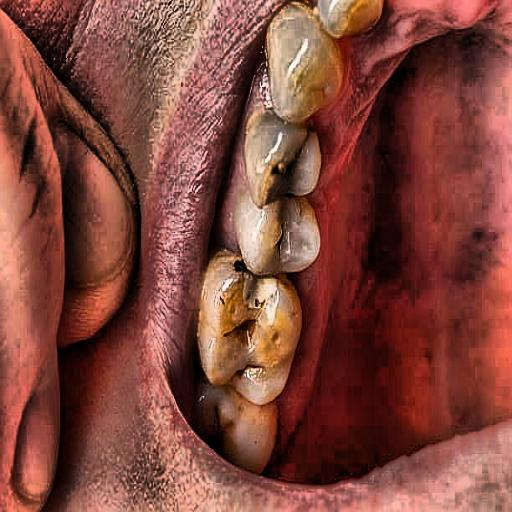Calculus: (227, 0, 332, 442)
